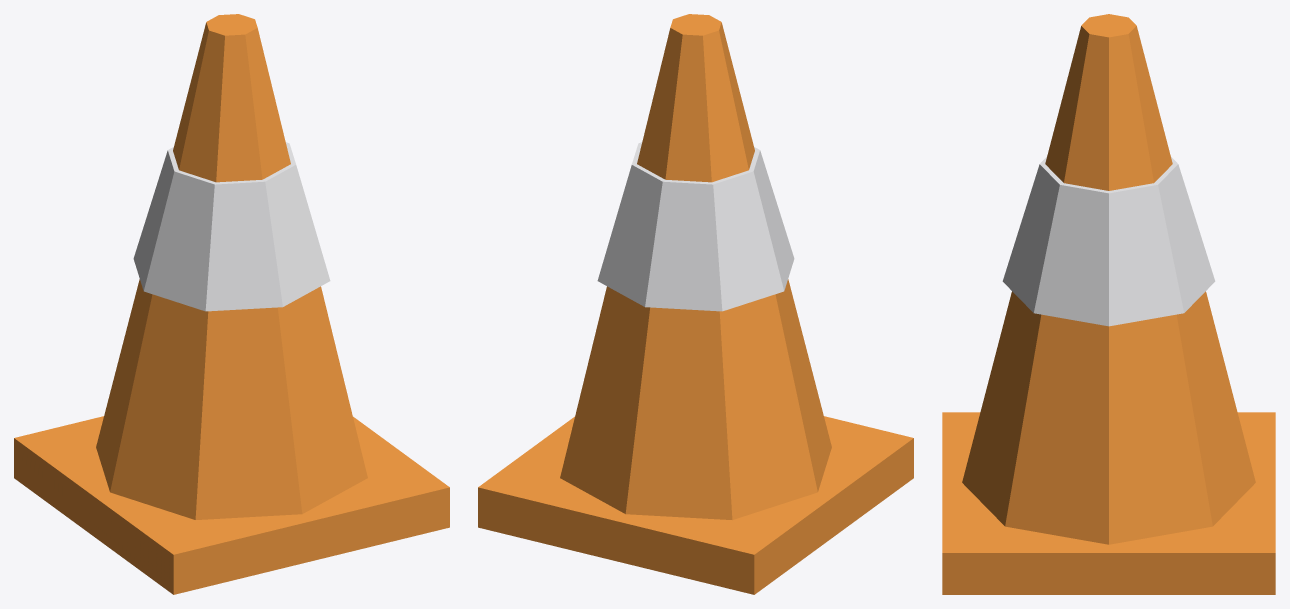
3 views of the same model, side by side, from view 1: azimuth 30°, elevation 25°; view 2: azimuth 150°, elevation 25°; view 3: azimuth 270°, elevation 25° (orthographic). The views are drawn at different scales.
Parts seen in each view (by area): view 1: bt-cl-cone_body, bt-cl-cone_base, bt-cl-cone_band; view 2: bt-cl-cone_body, bt-cl-cone_base, bt-cl-cone_band; view 3: bt-cl-cone_body, bt-cl-cone_base, bt-cl-cone_band.
Boxes of the visible parts, <box> form: bt-cl-cone_body: <box>96,14,367,519</box>; bt-cl-cone_base: <box>14,416,449,594</box>; bt-cl-cone_band: <box>133,142,330,311</box>; bt-cl-cone_body: <box>560,14,831,519</box>; bt-cl-cone_base: <box>478,416,913,594</box>; bt-cl-cone_band: <box>597,142,794,311</box>; bt-cl-cone_body: <box>962,14,1255,544</box>; bt-cl-cone_base: <box>942,412,1275,594</box>; bt-cl-cone_band: <box>1002,157,1215,326</box>.
Bounding box in the file's own units: 0.36 × 0.595 × 0.36.
